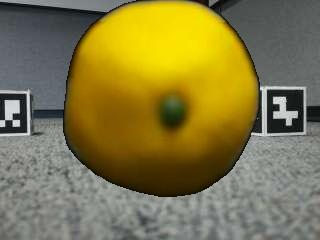lemon: (65, 1, 259, 193)
